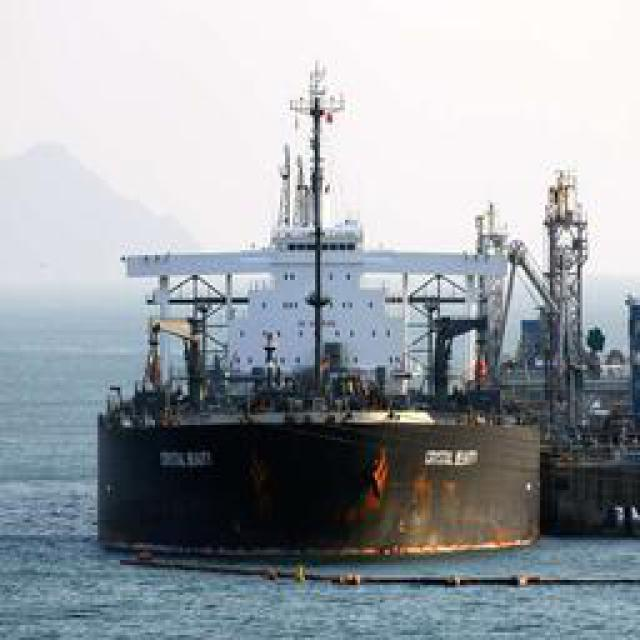Ship: (100, 54, 555, 554)
